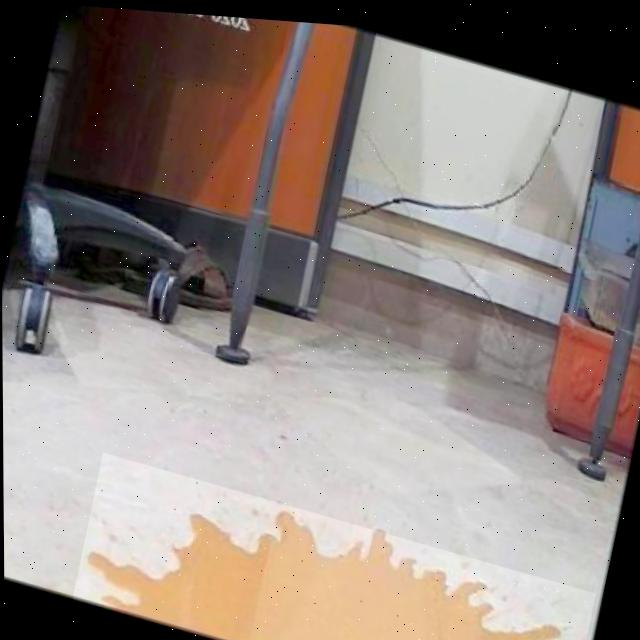spillage: (73, 508, 576, 640)
